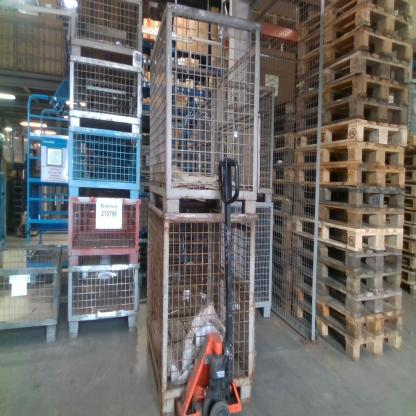pallet: (295, 302, 401, 355), (301, 29, 411, 77), (295, 250, 401, 295), (296, 269, 402, 313), (297, 287, 400, 332), (298, 77, 410, 114), (299, 6, 412, 42), (298, 53, 410, 88), (294, 232, 400, 268), (294, 217, 403, 250), (295, 97, 408, 127), (295, 120, 408, 148), (296, 185, 404, 211), (294, 201, 404, 225), (294, 142, 404, 166), (295, 166, 404, 189), (272, 288, 291, 314), (274, 258, 295, 277), (277, 115, 295, 133), (276, 177, 293, 195), (276, 195, 292, 214), (278, 146, 294, 164), (275, 227, 290, 244), (272, 277, 295, 288), (274, 244, 290, 258), (277, 133, 294, 146), (275, 214, 292, 227), (403, 267, 416, 283), (278, 164, 293, 177), (404, 253, 414, 272), (403, 225, 416, 239), (406, 168, 416, 185), (404, 239, 416, 253), (406, 152, 416, 168), (404, 185, 416, 198), (404, 283, 416, 295), (403, 212, 414, 225), (404, 198, 414, 212)
pallet_truck: (174, 141, 245, 416)
stillage: (141, 4, 268, 212), (144, 199, 253, 412), (205, 75, 276, 203), (215, 202, 276, 328), (0, 242, 63, 342), (66, 190, 140, 265), (69, 55, 141, 130), (67, 266, 138, 336), (68, 130, 143, 194), (69, 1, 143, 58)
